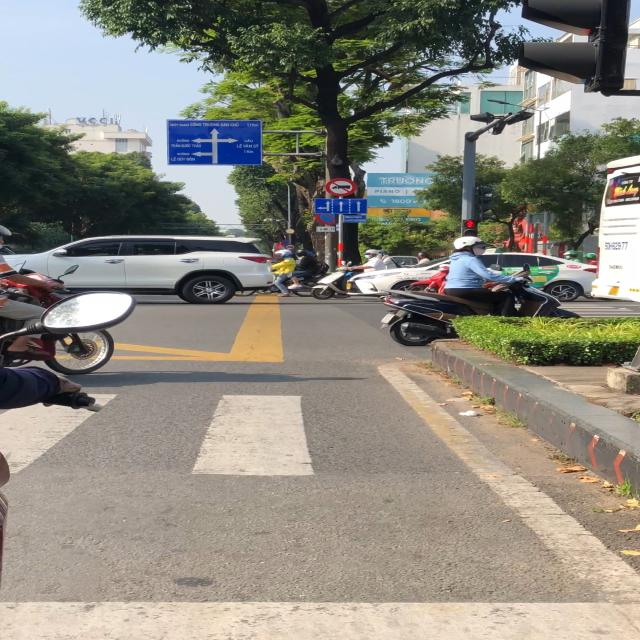Bien bao cam xe so-mi ro-mooc: (323, 176, 362, 199)
